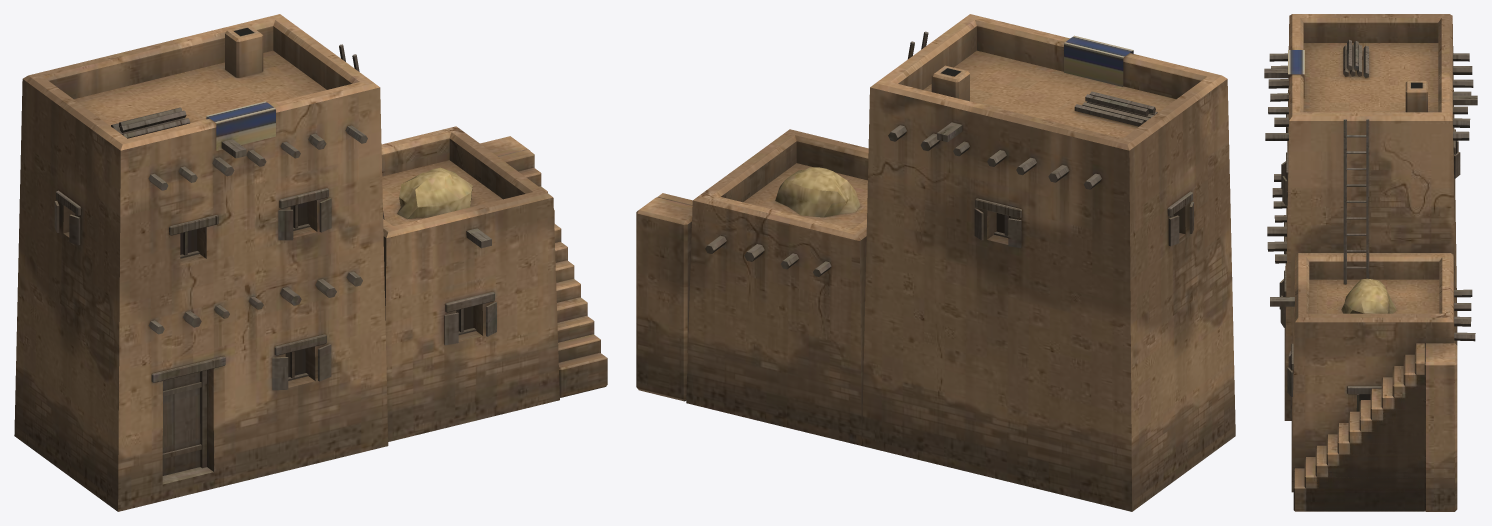
The picture shows the model from 3 angles, left to right: view 1: azimuth 30°, elevation 25°; view 2: azimuth 150°, elevation 25°; view 3: azimuth 270°, elevation 25°; orthographic projection. The views are drawn at different scales.
Parts seen in each view (by area): view 1: vh_h50b; view 2: vh_h50b; view 3: vh_h50b.
Part boxes in pixels (<box>): vh_h50b: <box>14,14,607,511</box>; vh_h50b: <box>636,14,1235,511</box>; vh_h50b: <box>1264,14,1477,511</box>.
Bounding box in the file's own units: 9.57 × 6.8 × 4.25.
Materials: 1 (1 with a texture image).
